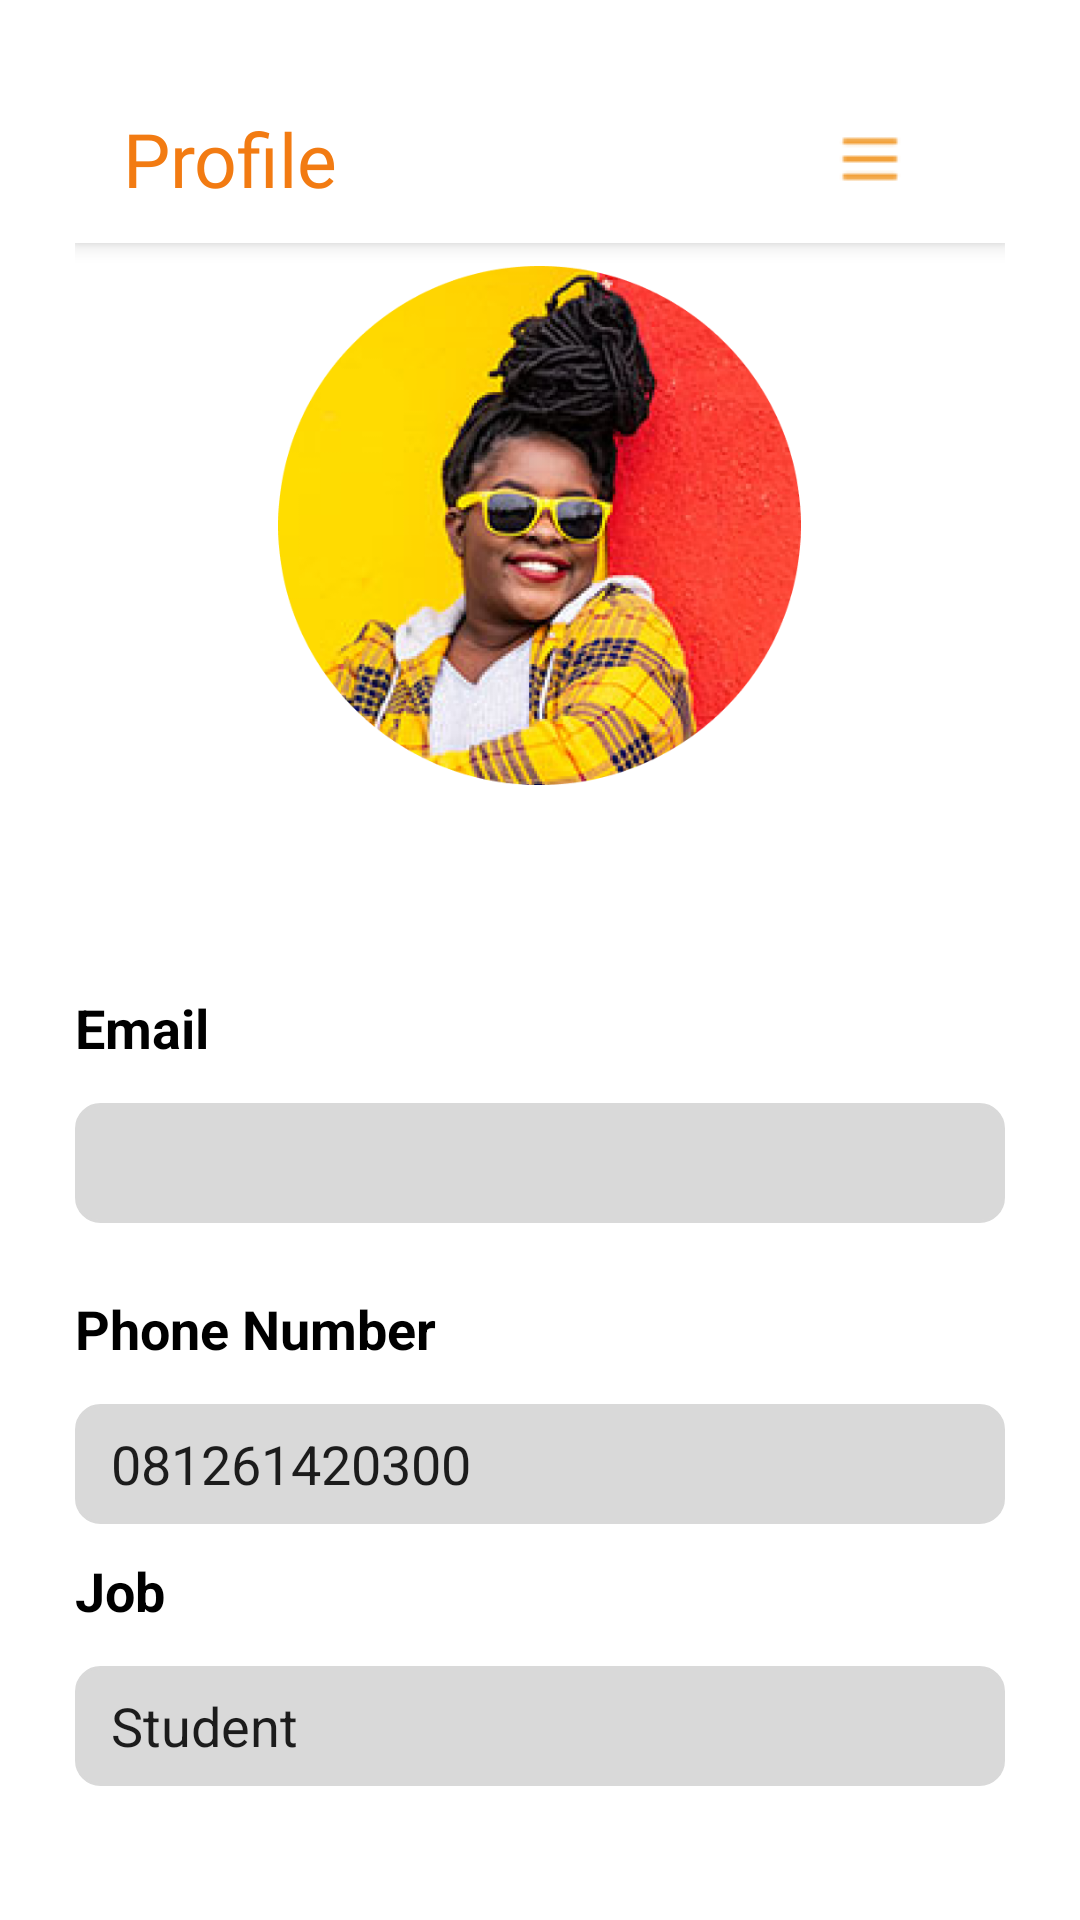

Icon click points for this 1080 × 1920 phone screenshot, format (x,y):
Open navigation menu: (870,159)
